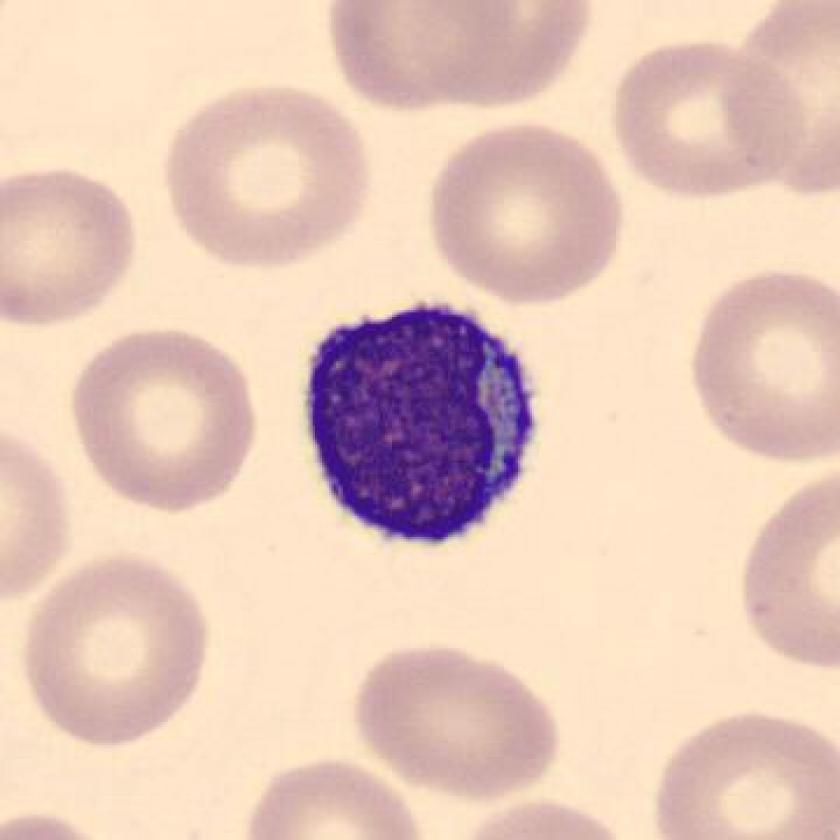lymphocyte: (274, 293, 566, 559)
